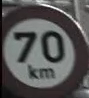Speed limit: (7, 7, 76, 89)
